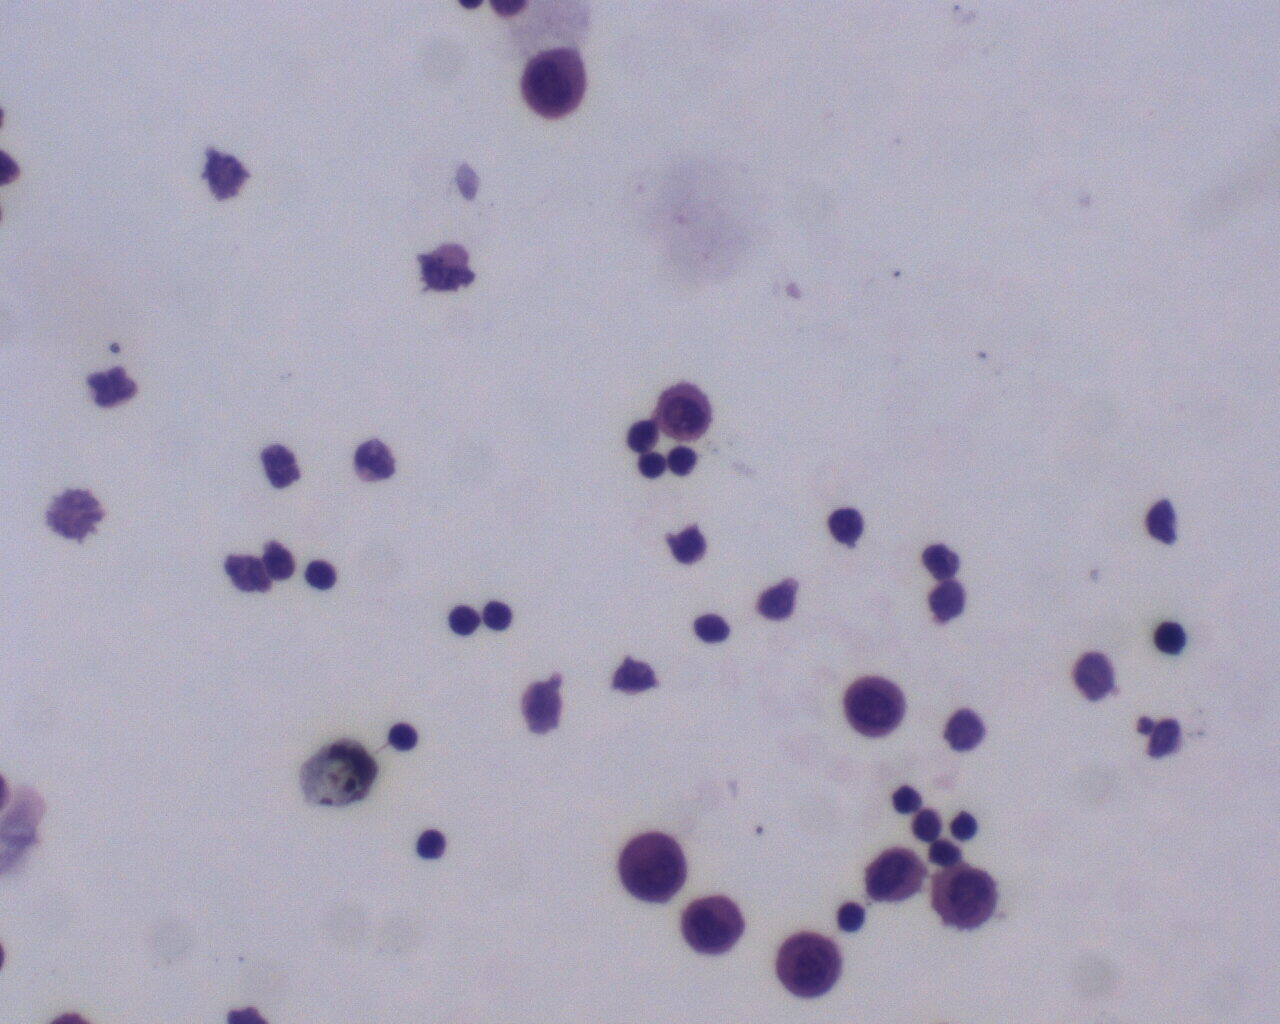ab: (517, 44, 596, 127), (768, 926, 843, 1004), (616, 828, 689, 908), (926, 864, 1004, 934), (838, 671, 911, 740), (648, 380, 720, 445), (681, 892, 748, 960), (866, 841, 924, 908)
lymph: (377, 715, 425, 761), (1148, 612, 1189, 662), (481, 596, 525, 639), (410, 825, 456, 862), (304, 554, 338, 591)
